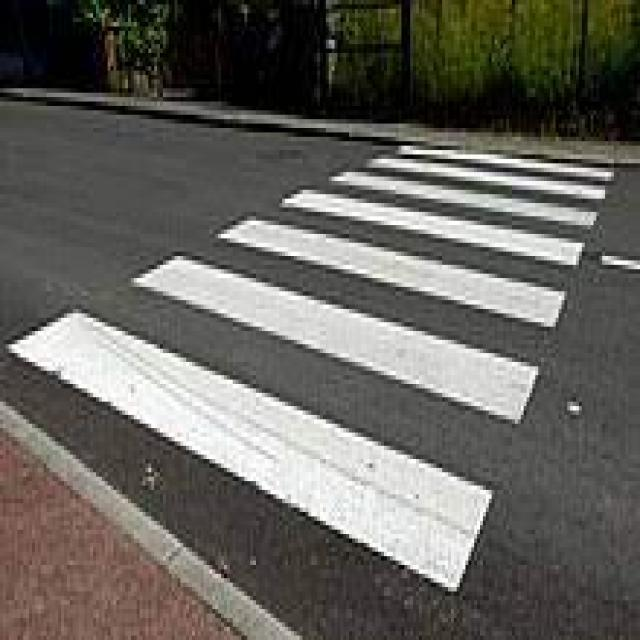crosswalk: (0, 140, 616, 638)
